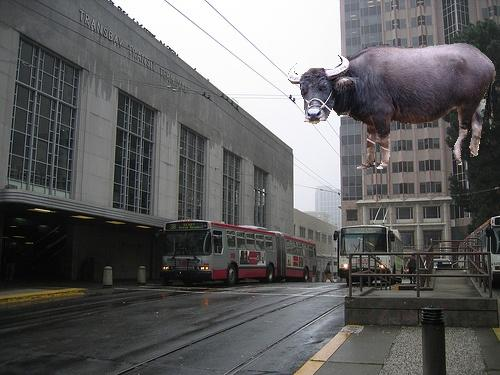tampered: (289, 44, 496, 169)
